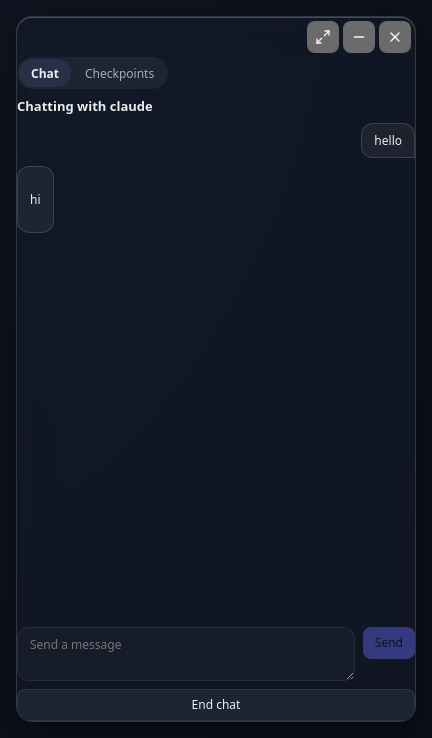
Test case: ActiveChat: typing / opens the persona palette and selecting an option inserts the slash command
Type "/" into the text box with test id "chat-message-input". click: (186, 654)
box: top-left (17, 627), bottom-right (355, 681)
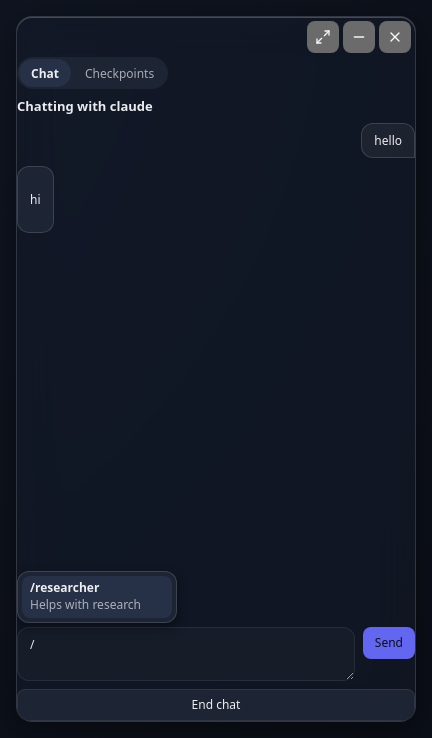
Expected: the button with test id "chat-message-input-palette-option-researcher" is shown
Click the button with test id "chat-message-input-palette-option-researcher". click: (97, 597)
box: top-left (22, 576), bottom-right (172, 618)
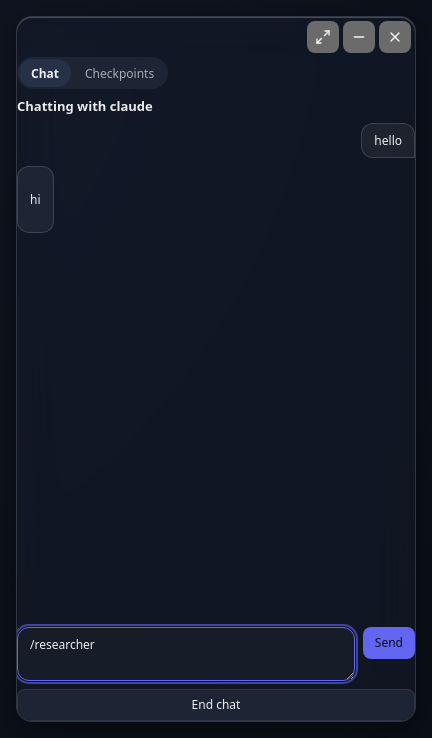
Expected: the text box with test id "chat-message-input" holds "/researcher ", top-left (17, 627), bottom-right (355, 681)
